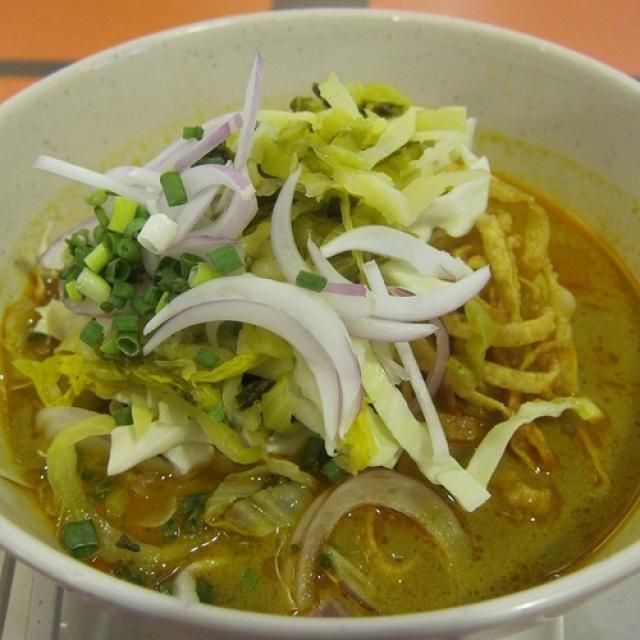面条主食: (13, 42, 630, 604)
